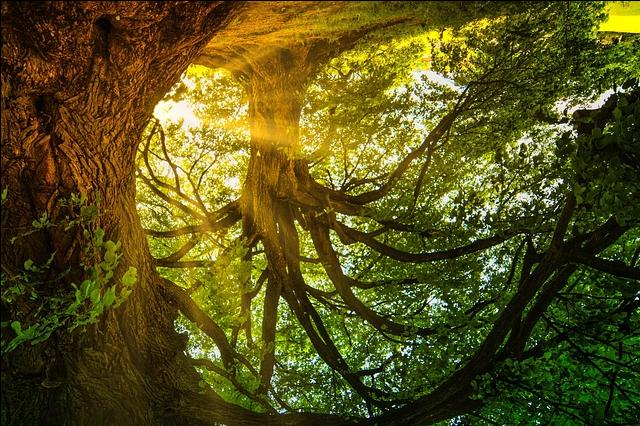Non_Gorille: (92, 34, 569, 384)
